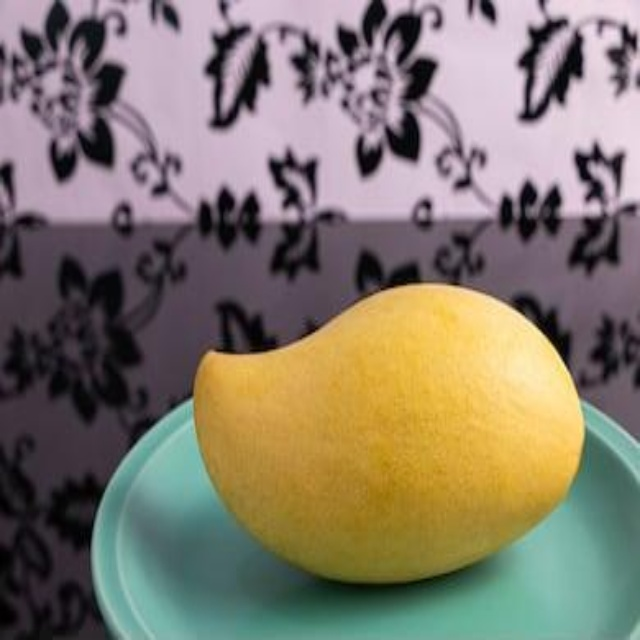mango: (190, 284, 580, 576)
